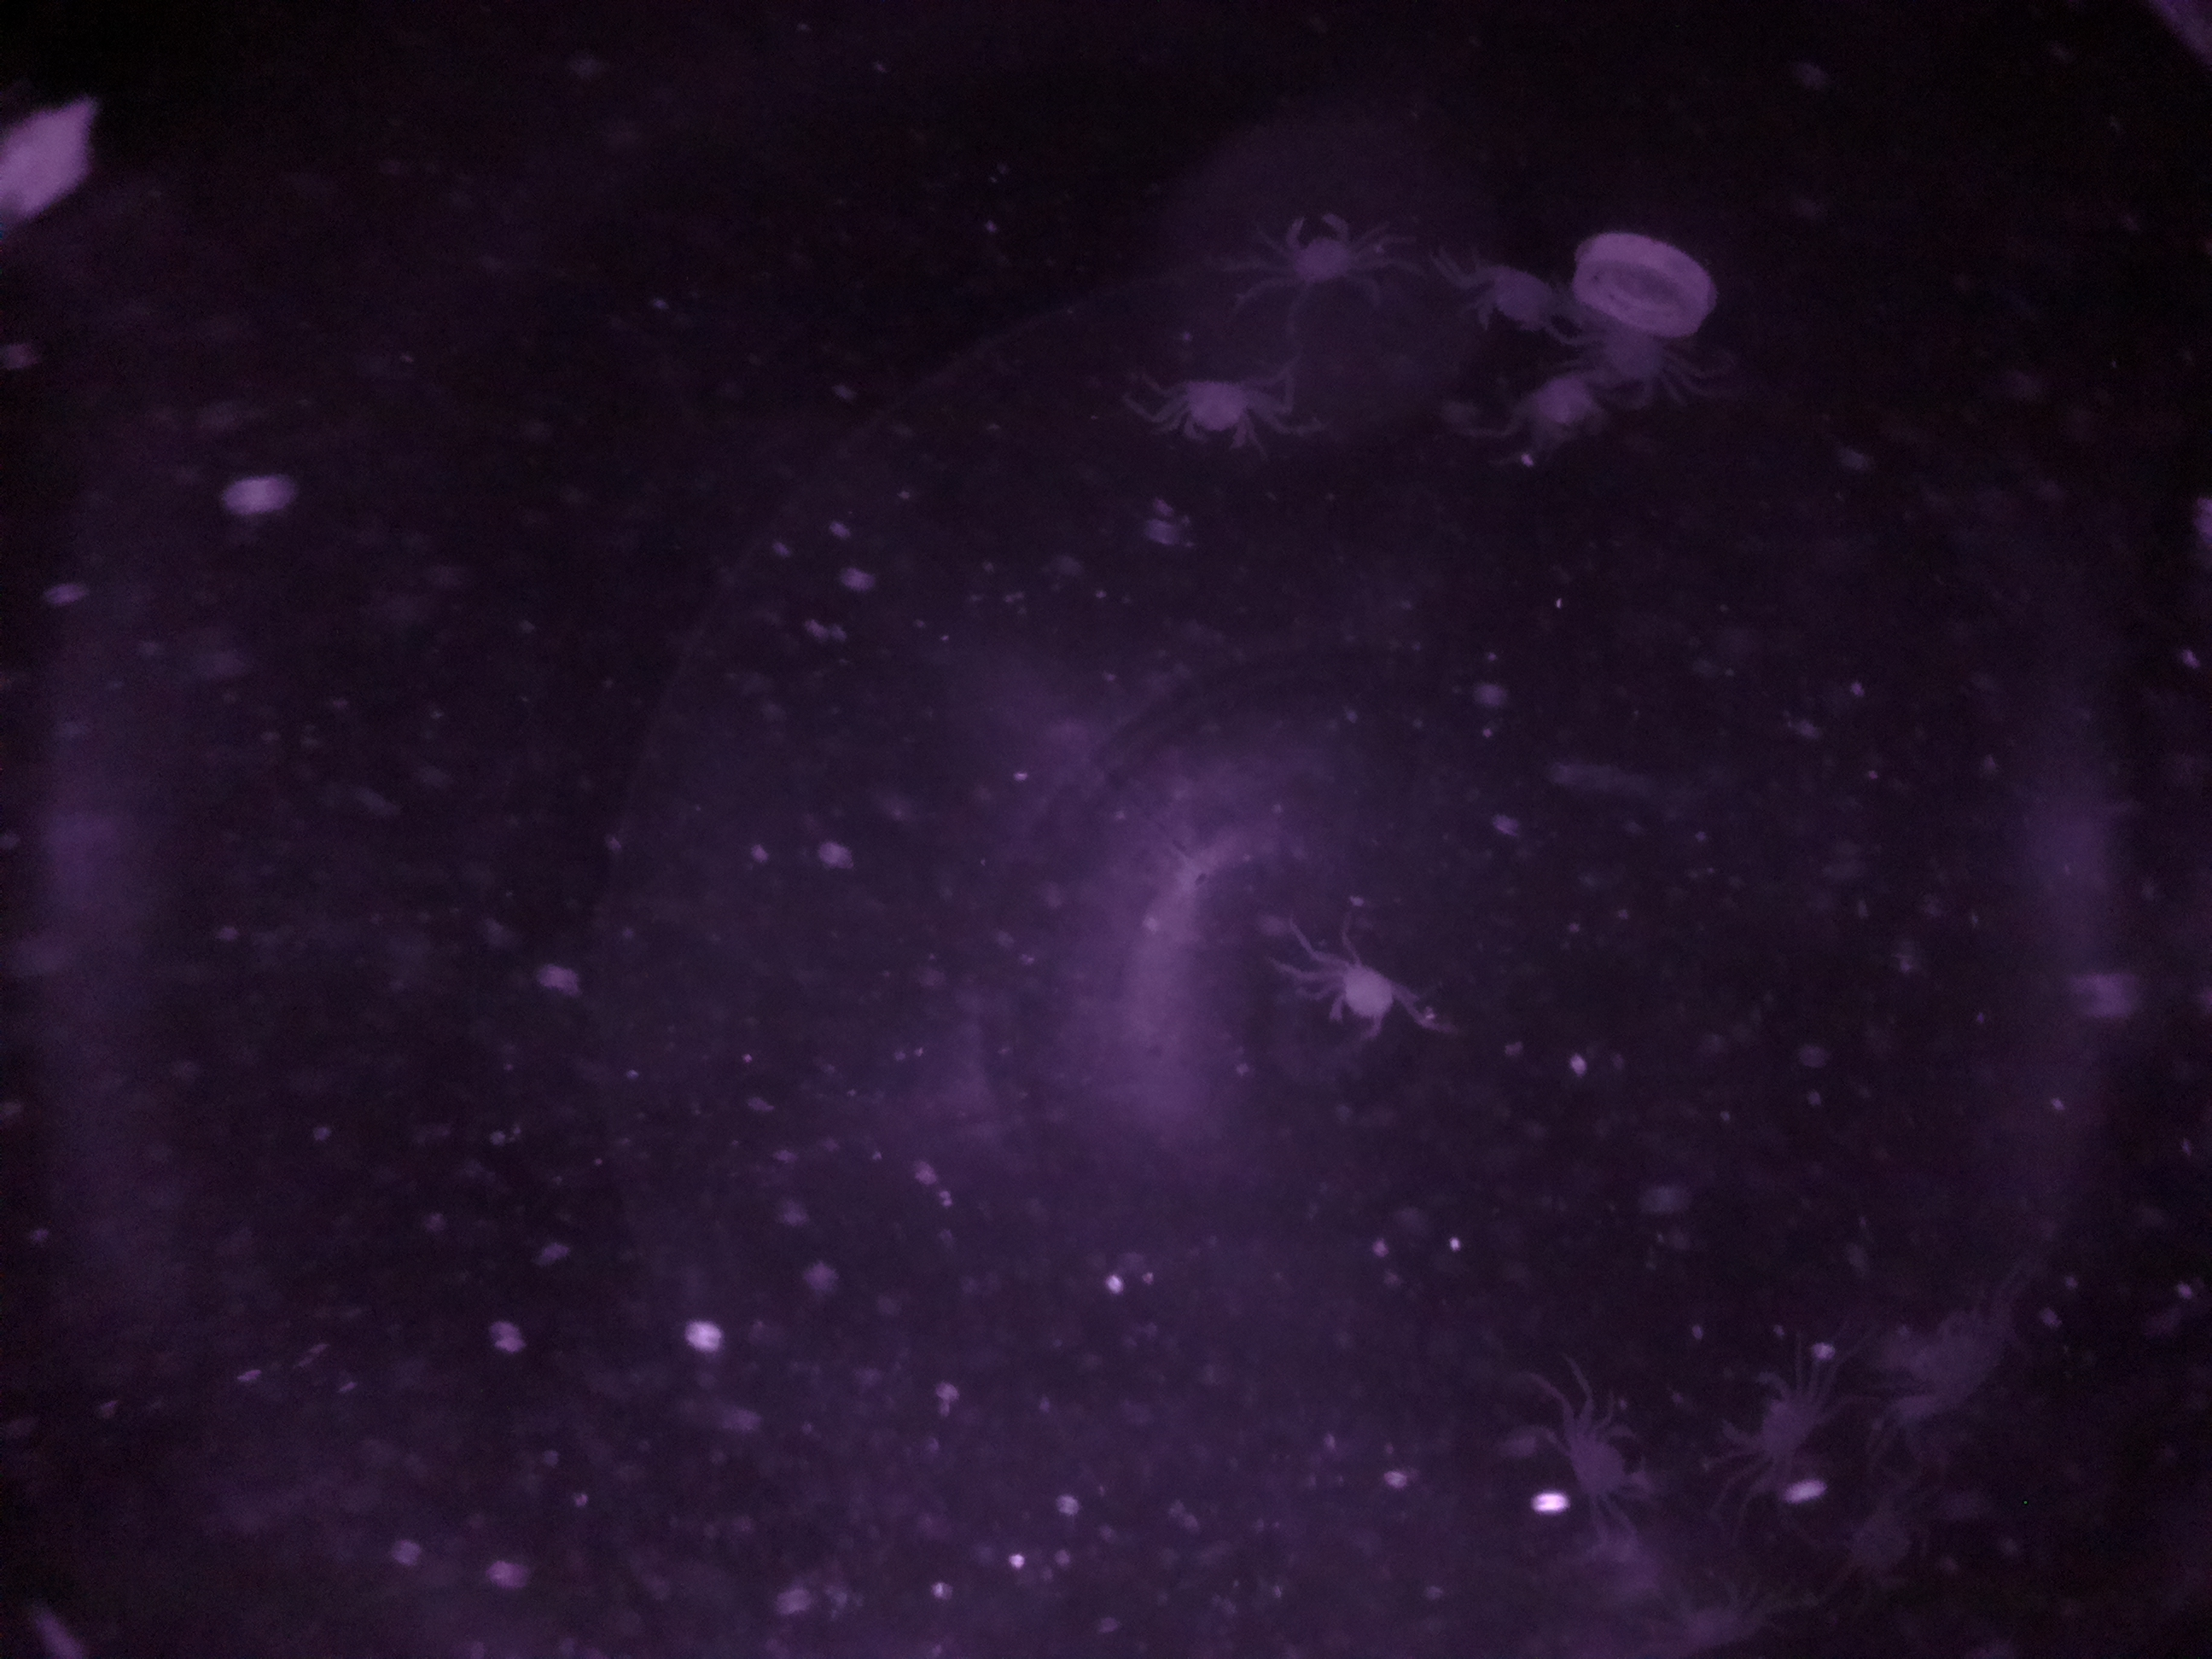Crab: (1538, 1401, 1662, 1527), (1264, 181, 1376, 307), (1301, 941, 1413, 1056), (1158, 354, 1275, 464)
